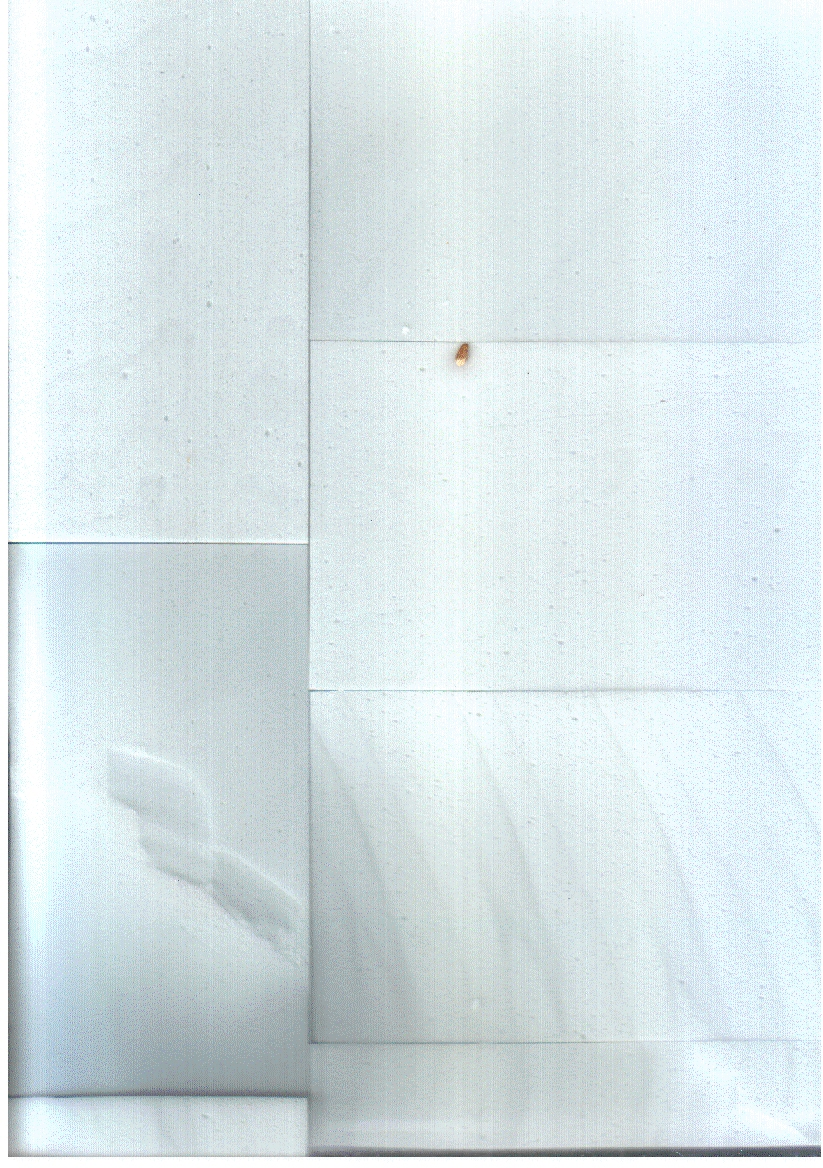grains: (444, 329, 483, 383)
